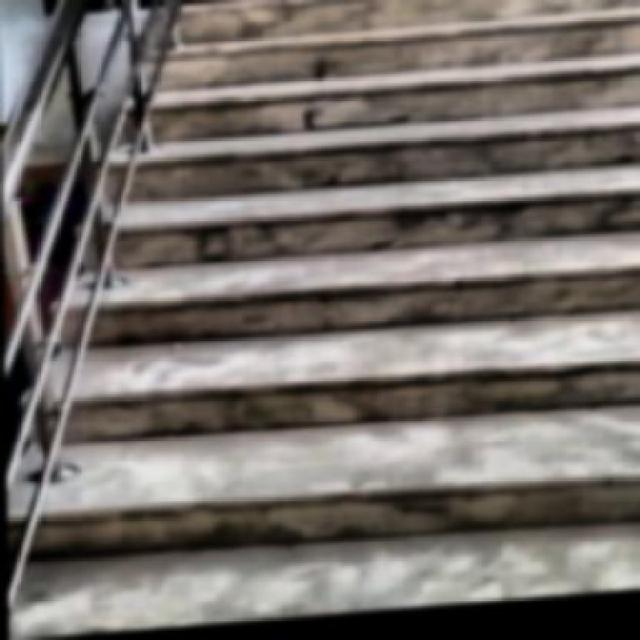stair: (59, 0, 638, 637)
